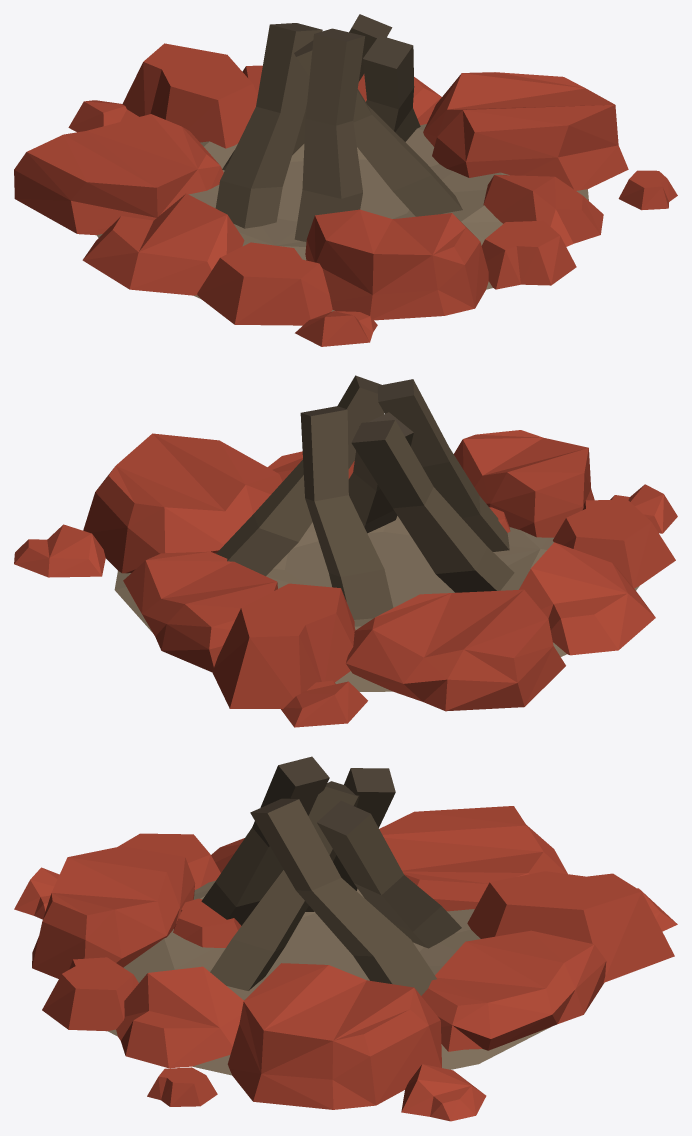
File: synty-prop-campfire-01.gltf
3 renders of one model, top to bottom at view 1: azimuth 30°, elevation 25°; view 2: azimuth 150°, elevation 25°; view 3: azimuth 270°, elevation 25°, orthographic. The views are drawn at different scales.
Parts seen in each view (by area): view 1: SM_Prop_CampFire_01; view 2: SM_Prop_CampFire_01; view 3: SM_Prop_CampFire_01.
Boxes of the visible parts, box(x1,y1,x2,y2) form: SM_Prop_CampFire_01: box(14, 14, 677, 346); SM_Prop_CampFire_01: box(14, 375, 677, 727); SM_Prop_CampFire_01: box(14, 756, 677, 1121).
Bounding box in the file's own units: 1.53 × 0.5995 × 1.53.
Materials: 1 (1 with a texture image).
